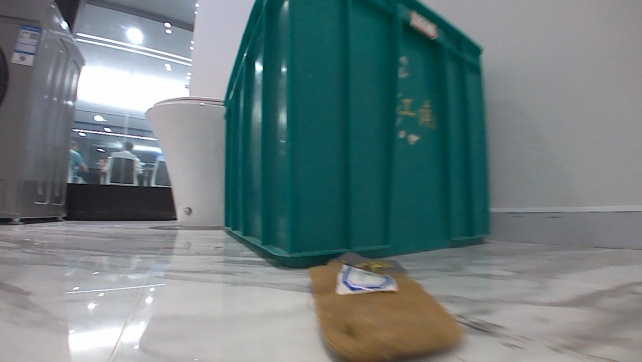socks: (306, 250, 466, 361)
toilet: (143, 94, 226, 230)
washing_machine1: (0, 0, 86, 225)
